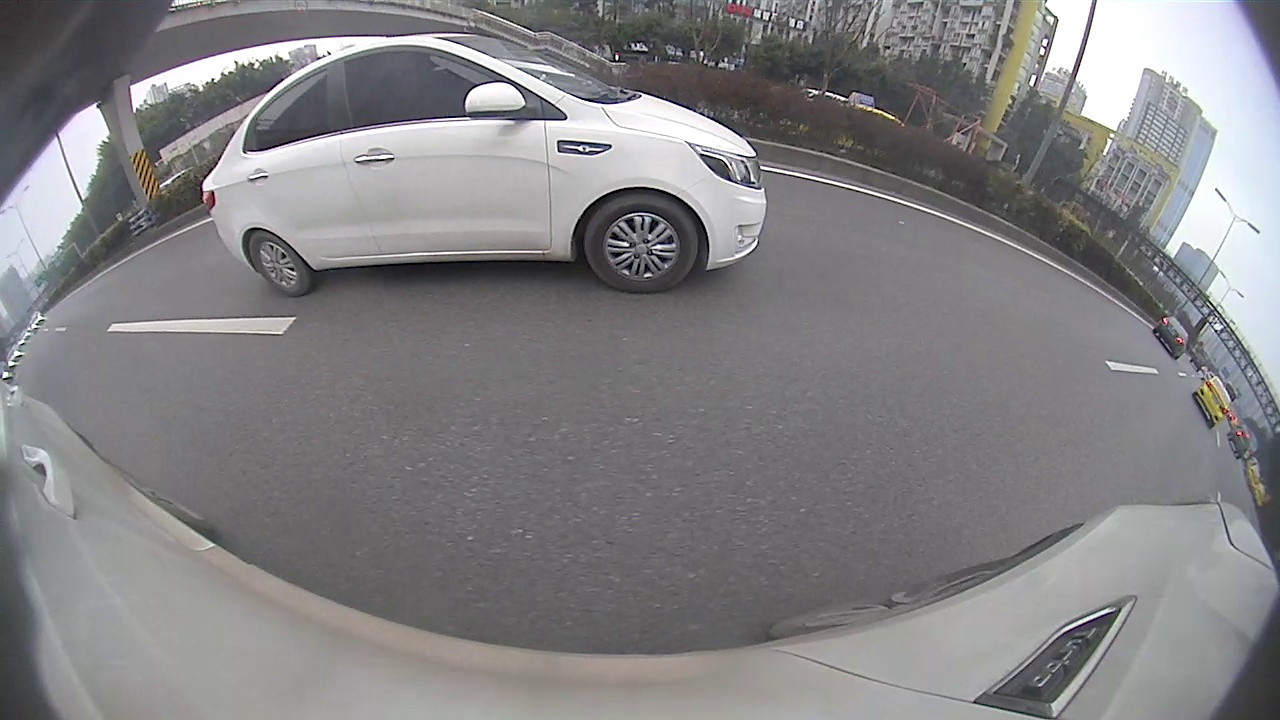car: (198, 30, 767, 298), (1191, 373, 1237, 430), (1153, 312, 1191, 361)
front: (583, 188, 701, 294)
rear: (246, 228, 322, 300)
